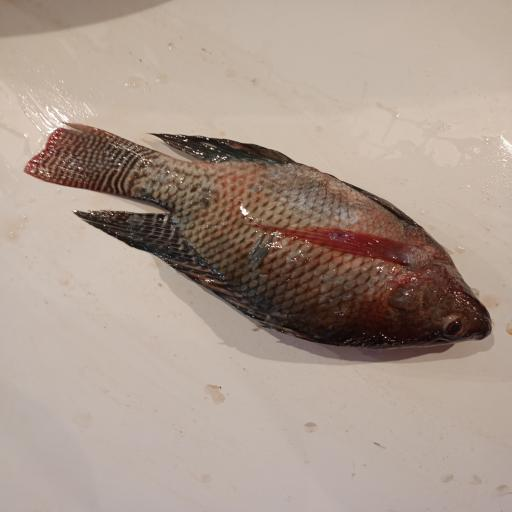Tilapia: (24, 122, 493, 350)
